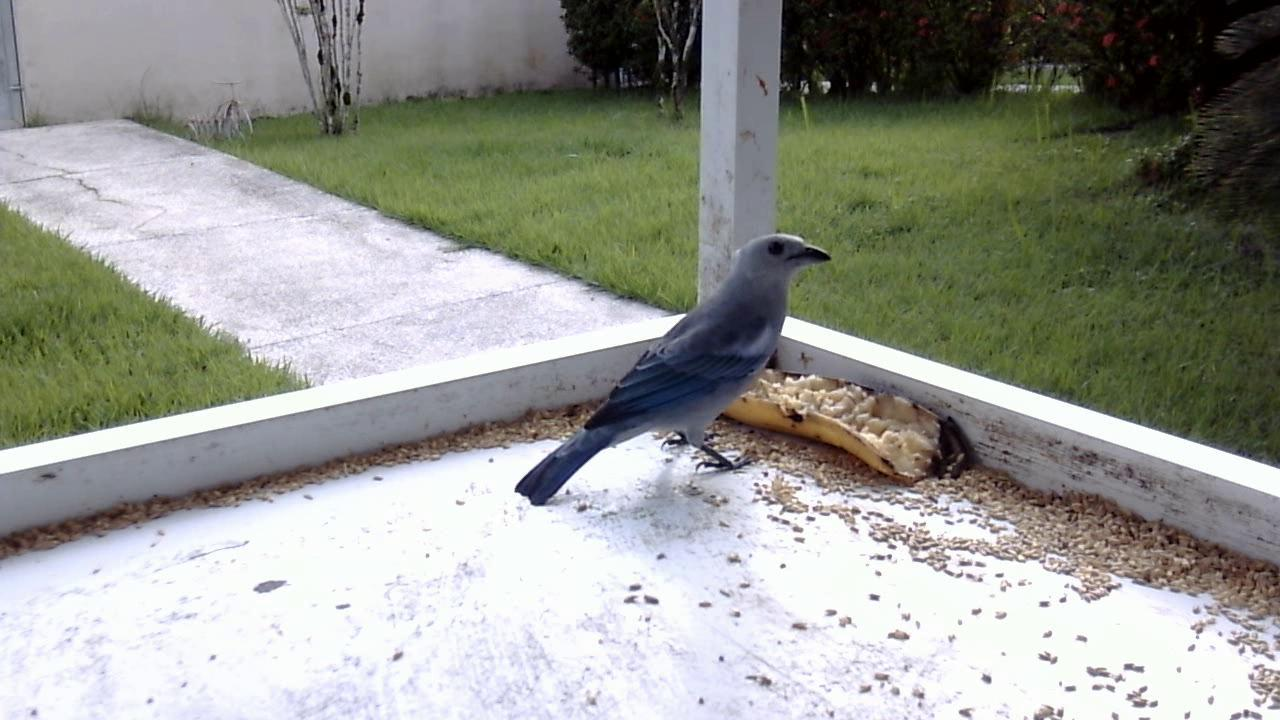sanhaco_da_amazonia: (512, 237, 830, 508)
